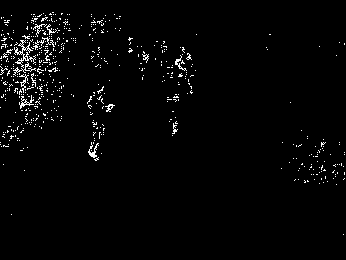person: (85, 81, 116, 161)
